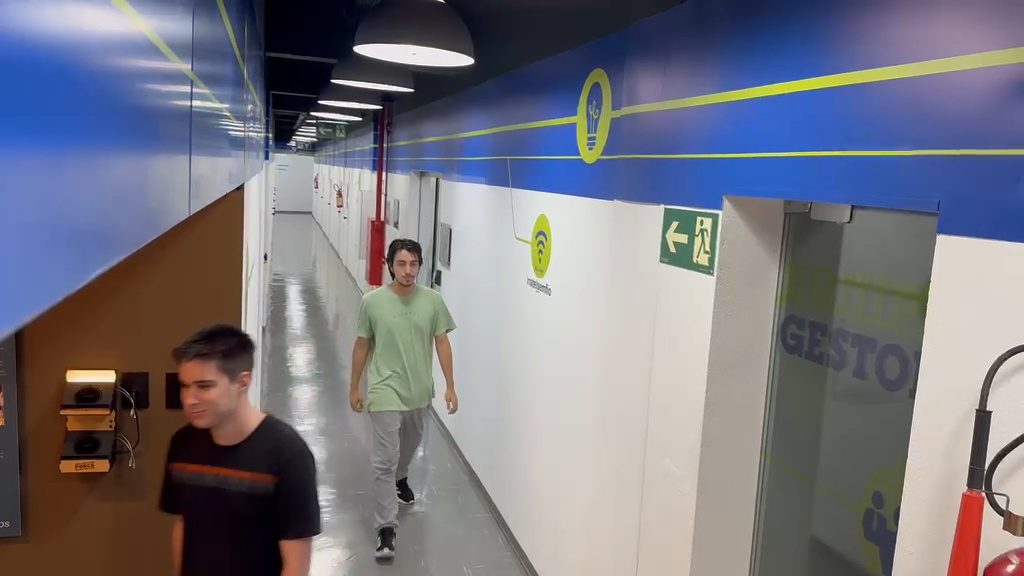person: (158, 324, 322, 573), (349, 237, 460, 531)
